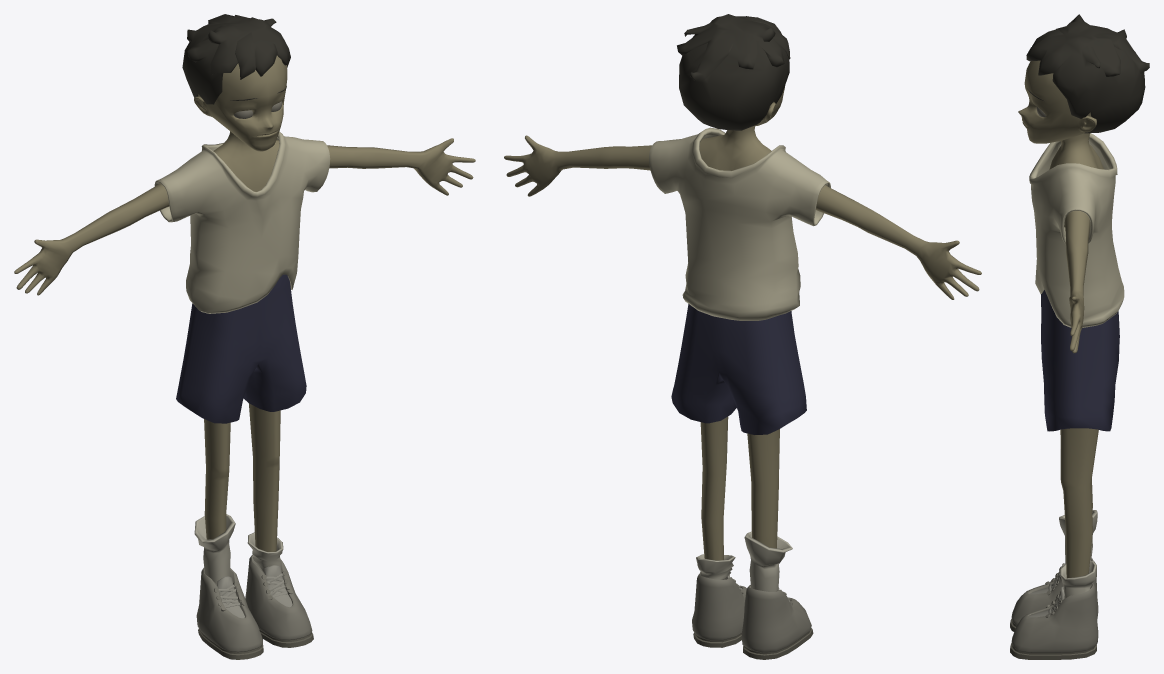
Rendered from CHARACTER  REDUCE FACE.fbx.
The picture shows the model from 3 angles, left to right: view 1: azimuth 30°, elevation 25°; view 2: azimuth 150°, elevation 25°; view 3: azimuth 270°, elevation 25°; orthographic projection. The views are drawn at different scales.
Parts seen in each view (by area): view 1: T_SHIRT, BODY, PANTS, HAIR02, FACE, polySurface15, polySurface9, SOCK_R; view 2: T_SHIRT, BODY, PANTS, HAIR02, polySurface15, polySurface9, SOCK_R, SOCK_L; view 3: T_SHIRT, HAIR02, BODY, PANTS, polySurface9, FACE, polySurface15, SOCK_L, polySurface2, SOCK_R.
Boxes of the visible parts, bbox=[...] form: T_SHIRT: bbox=[154, 131, 330, 313]; BODY: bbox=[14, 131, 475, 551]; PANTS: bbox=[176, 274, 306, 423]; HAIR02: bbox=[182, 14, 290, 104]; FACE: bbox=[194, 55, 287, 151]; polySurface15: bbox=[196, 567, 262, 652]; polySurface9: bbox=[245, 554, 312, 640]; SOCK_R: bbox=[194, 514, 235, 584]; T_SHIRT: bbox=[649, 127, 830, 320]; BODY: bbox=[504, 126, 981, 560]; PANTS: bbox=[671, 304, 806, 434]; HAIR02: bbox=[677, 14, 790, 130]; polySurface15: bbox=[741, 585, 811, 652]; polySurface9: bbox=[692, 574, 746, 640]; SOCK_R: bbox=[744, 531, 792, 591]; SOCK_L: bbox=[696, 554, 735, 579]; T_SHIRT: bbox=[1029, 133, 1124, 327]; HAIR02: bbox=[1026, 14, 1149, 133]; BODY: bbox=[1049, 133, 1103, 578]; PANTS: bbox=[1041, 290, 1119, 431]; polySurface9: bbox=[1011, 582, 1098, 652]; FACE: bbox=[1018, 60, 1096, 143]; polySurface15: bbox=[1011, 558, 1098, 625]; SOCK_L: bbox=[1060, 560, 1096, 598]; polySurface2: bbox=[1010, 643, 1096, 659]; SOCK_R: bbox=[1059, 510, 1097, 563].
Bounding box in the file's own units: 119 × 149 × 31.11.
